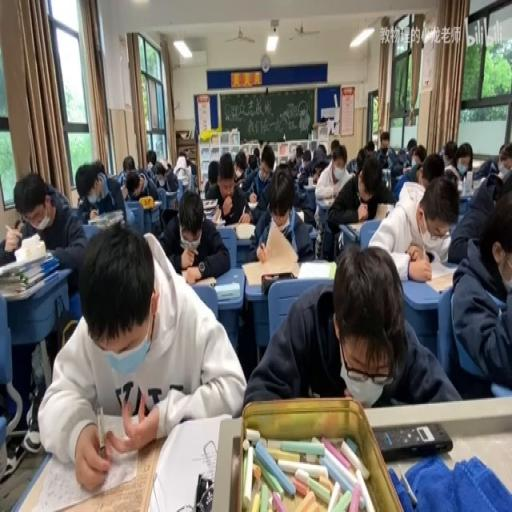calculator: (241, 257, 295, 286), (422, 256, 458, 292), (297, 260, 336, 282), (214, 282, 240, 300), (234, 222, 256, 240), (372, 202, 390, 222), (314, 194, 334, 208), (192, 276, 217, 286), (470, 176, 484, 192), (382, 166, 391, 190), (212, 205, 222, 222), (201, 199, 217, 208), (177, 174, 189, 186), (146, 198, 162, 206), (295, 208, 304, 222), (246, 199, 258, 208), (306, 176, 315, 186)
paper: (41, 220, 245, 490), (246, 244, 458, 406), (448, 182, 511, 398), (5, 168, 89, 289), (326, 151, 395, 256), (157, 186, 228, 280), (248, 164, 314, 262), (78, 158, 130, 230), (474, 141, 510, 186), (297, 144, 328, 186), (152, 158, 180, 192), (419, 152, 445, 186), (0, 226, 19, 268), (374, 131, 393, 168), (392, 168, 414, 199), (203, 158, 219, 199), (454, 142, 473, 176), (232, 150, 248, 186), (125, 171, 144, 199), (442, 141, 458, 169), (184, 155, 198, 183), (294, 175, 307, 202), (261, 150, 274, 176), (145, 148, 157, 171), (443, 168, 458, 186), (414, 145, 426, 166), (356, 148, 366, 173), (173, 154, 186, 172), (394, 146, 406, 165), (247, 152, 258, 172), (122, 154, 134, 172), (406, 138, 415, 158), (94, 158, 104, 173), (117, 170, 126, 186), (286, 156, 296, 170), (294, 145, 302, 161), (365, 138, 374, 151), (330, 138, 340, 149), (317, 144, 326, 156), (14, 219, 22, 230), (165, 160, 172, 170)
person: (373, 422, 452, 461), (194, 471, 214, 509), (345, 223, 358, 242)
